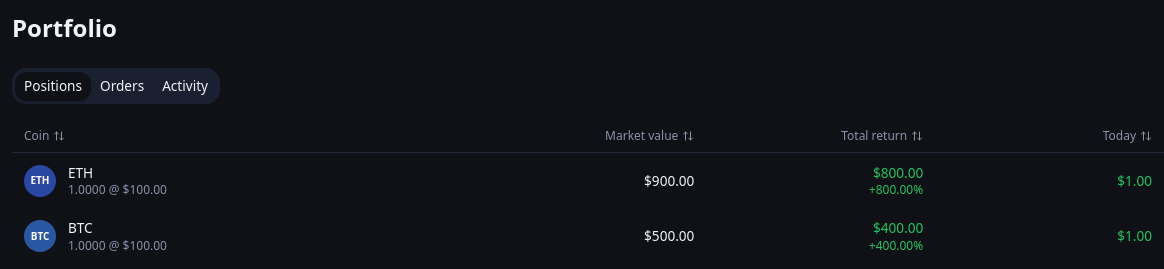
Scenario: PortfolioPage › shows the activity timeline in the Activity tab
This screenshot has width=1164, height=269.
Expected: the 2nd text "BTC" is shown, [68, 218, 93, 237]
Click the tab "Activity". click: (185, 86)
box: [153, 72, 217, 100]
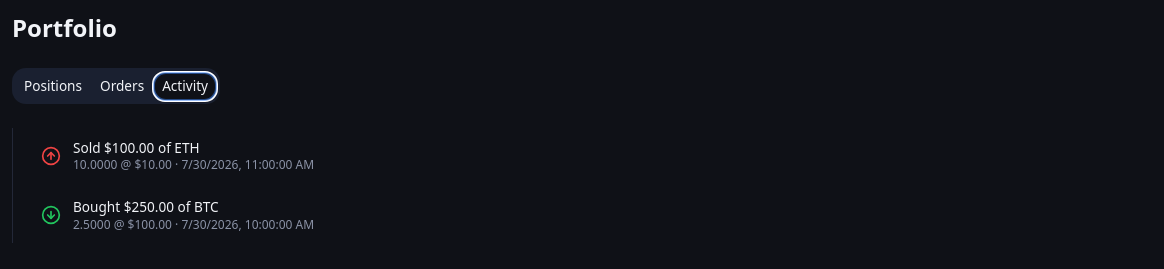
Expected: the text "Bought $250.00 of BTC" is shown, [73, 197, 219, 216]
